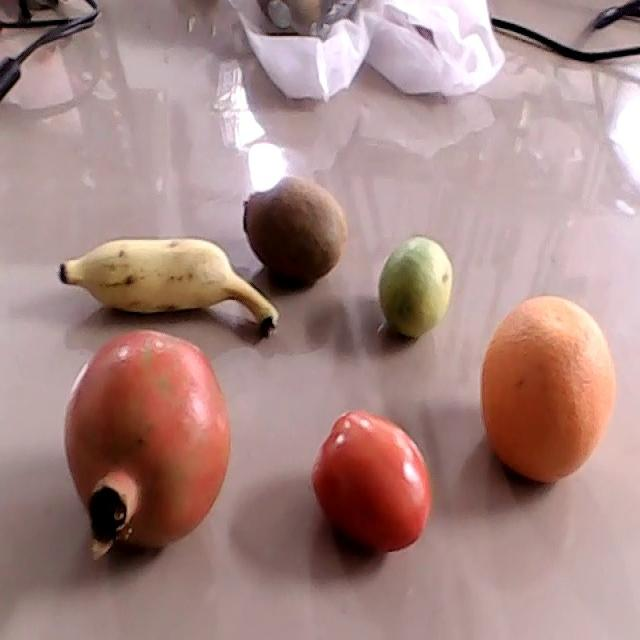kiwi: (239, 175, 349, 278)
lemon: (379, 236, 451, 337)
orange: (481, 295, 616, 483)
pomegranate: (64, 329, 230, 561)
tomato: (311, 410, 434, 553)
